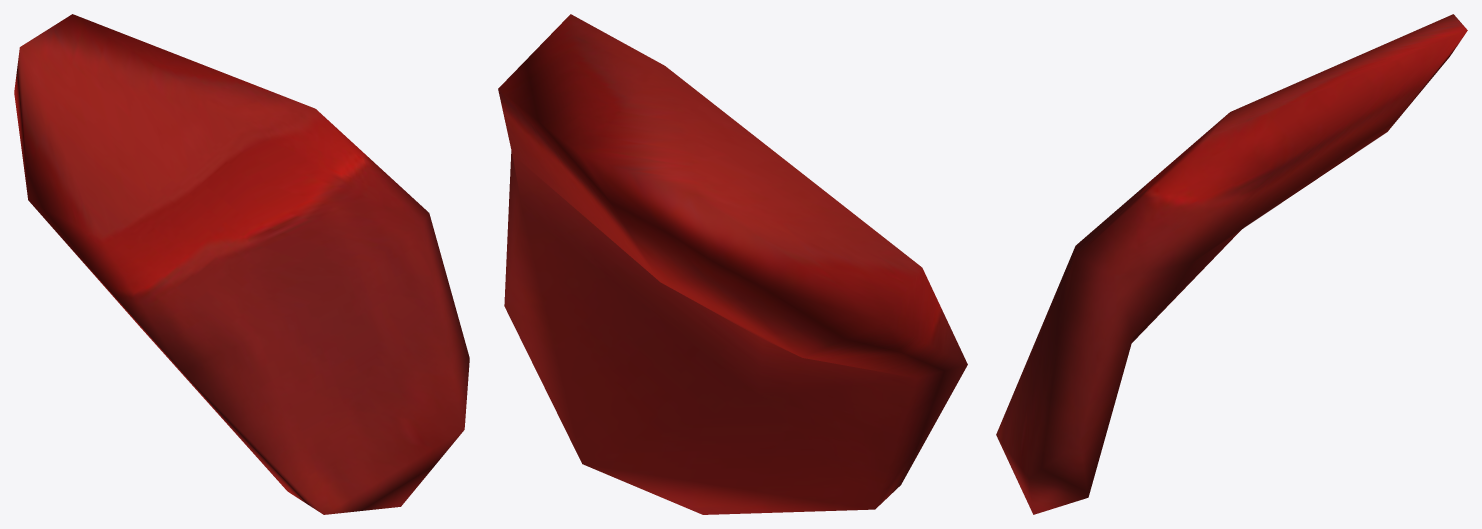
File: Face_Mucle_13.glb
3 renders of one model, left to right at view 1: azimuth 30°, elevation 25°; view 2: azimuth 150°, elevation 25°; view 3: azimuth 270°, elevation 25°, orthographic. The views are drawn at different scales.
Visible parts, largest first — view 1: Face_Mucle_13; view 2: Face_Mucle_13; view 3: Face_Mucle_13.
Part boxes in pixels (x1,y1,x2,y2): Face_Mucle_13: [14, 14, 469, 514]; Face_Mucle_13: [498, 14, 967, 514]; Face_Mucle_13: [996, 14, 1467, 514].
Bounding box in the file's own units: 0.0518 × 0.0573 × 0.059.
Materials: 1 (1 with a texture image).
